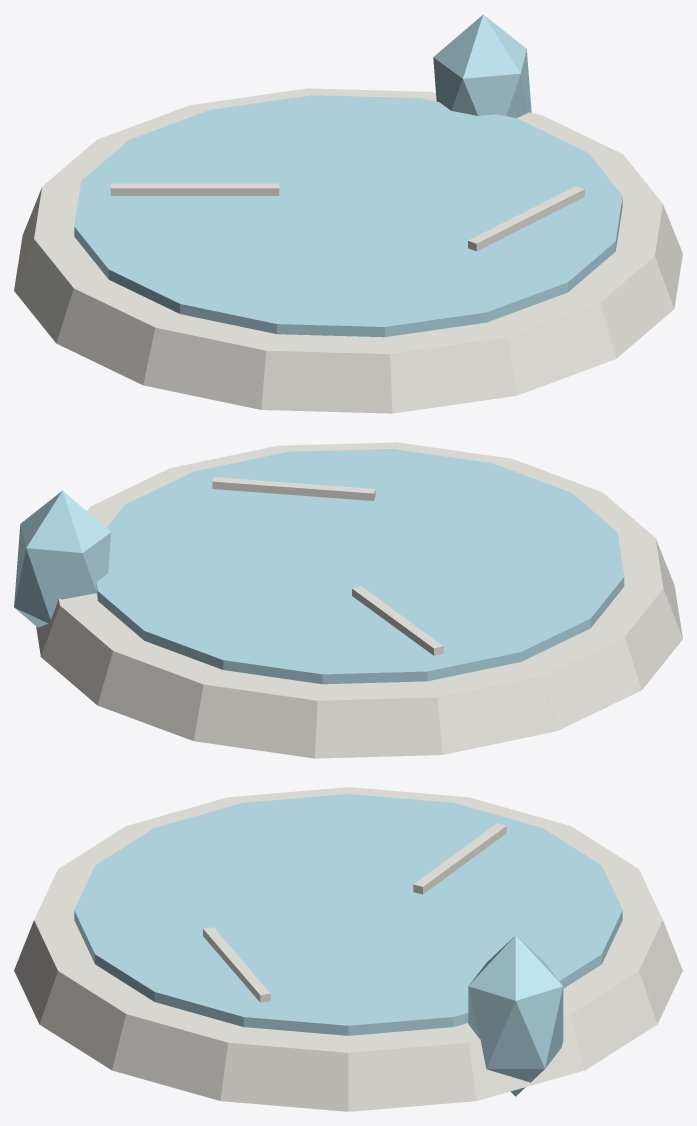
Rendered from ice-patch-lod0.glb.
The picture shows the model from 3 angles, top to bottom: view 1: azimuth 30°, elevation 25°; view 2: azimuth 150°, elevation 25°; view 3: azimuth 270°, elevation 25°; orthographic projection. The views are drawn at different scales.
Visible parts, largest first — view 1: ice-patch; view 2: ice-patch; view 3: ice-patch.
Part boxes in pixels (<box>): ice-patch: <box>14,14,682,413</box>; ice-patch: <box>14,442,682,758</box>; ice-patch: <box>14,787,682,1111</box>.
Bounding box in the file's own units: 1.2 × 0.32 × 1.2.
